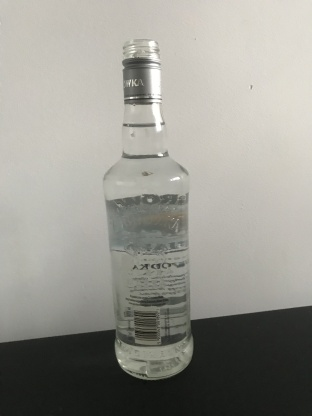nakretka: (120, 37, 163, 105)
